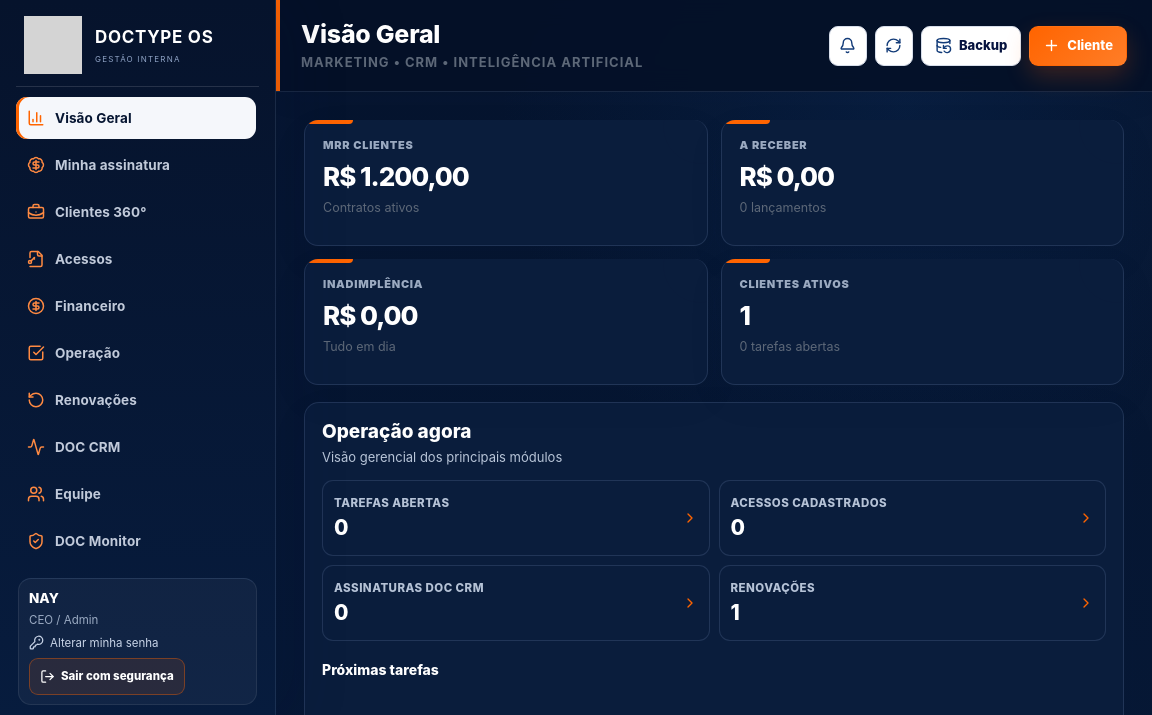
Test case: jornadas visíveis do DOCTYPE OS › exibe a ativação segura da cobrança automática na assinatura da empresa
Click the button "Minha assinatura": [136, 165] box [16,144,256,186]
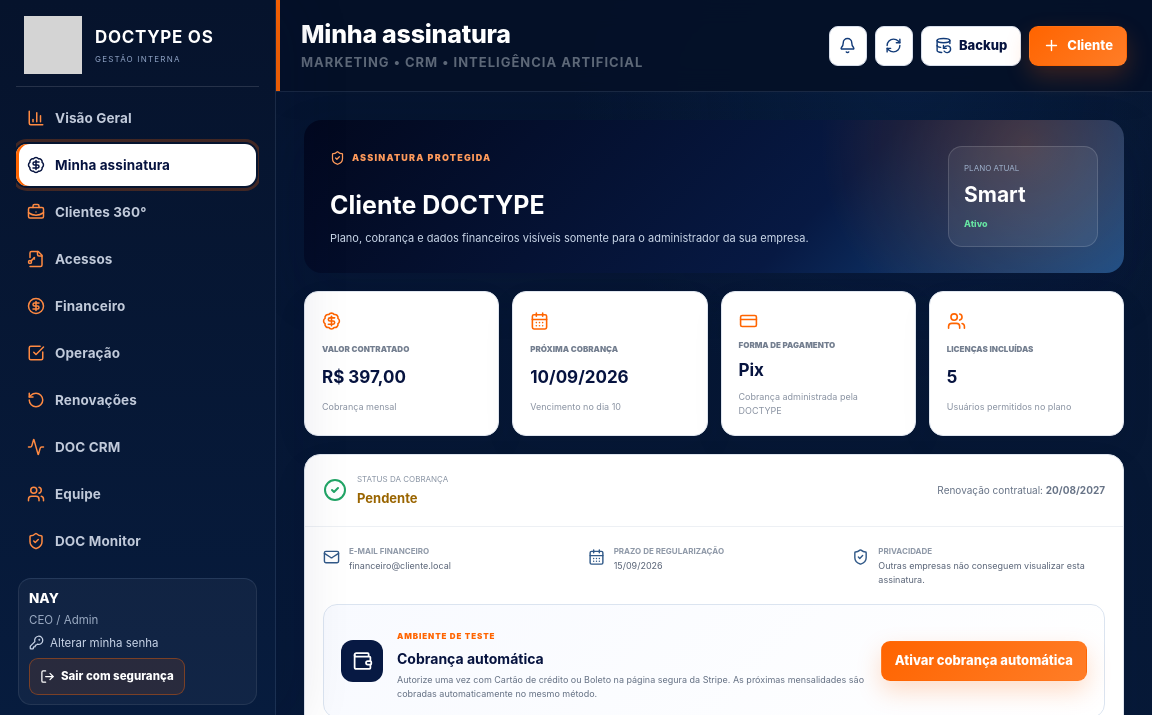
Now the heading "Cobrança automática" is shown, box [397,650,544,667]
Now the button "Ativar cobrança automática" is shown, box [881,641,1087,681]
Now the text "AMBIENTE DE TESTE" is shown, box [397,631,495,641]
